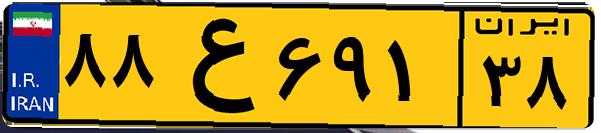1: (385, 28, 445, 110)
3: (475, 38, 525, 113)
6: (270, 28, 330, 110)
8: (57, 26, 110, 100), (525, 38, 570, 115), (110, 28, 158, 98)
9: (330, 28, 385, 110)
ع: (158, 12, 270, 120)
